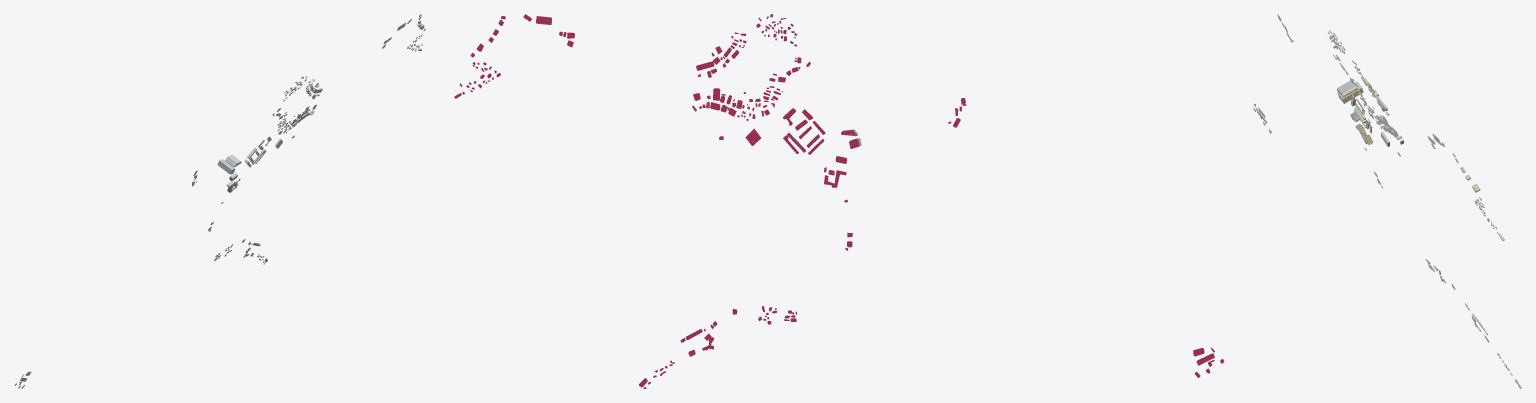
The picture shows the model from 3 angles, left to right: view 1: azimuth 30°, elevation 25°; view 2: azimuth 150°, elevation 25°; view 3: azimuth 270°, elevation 25°; orthographic projection. The views are drawn at different scales.
Visible parts, largest first — view 1: geometry_0; view 2: geometry_0; view 3: geometry_0.
Part boxes in pixels (left/top/right/bottom): geometry_0: left=14, top=14, right=425, bottom=388; geometry_0: left=454, top=14, right=1224, bottom=388; geometry_0: left=1253, top=14, right=1521, bottom=388.
Size of the model in its own units: 2184 by 1024 by 743.
